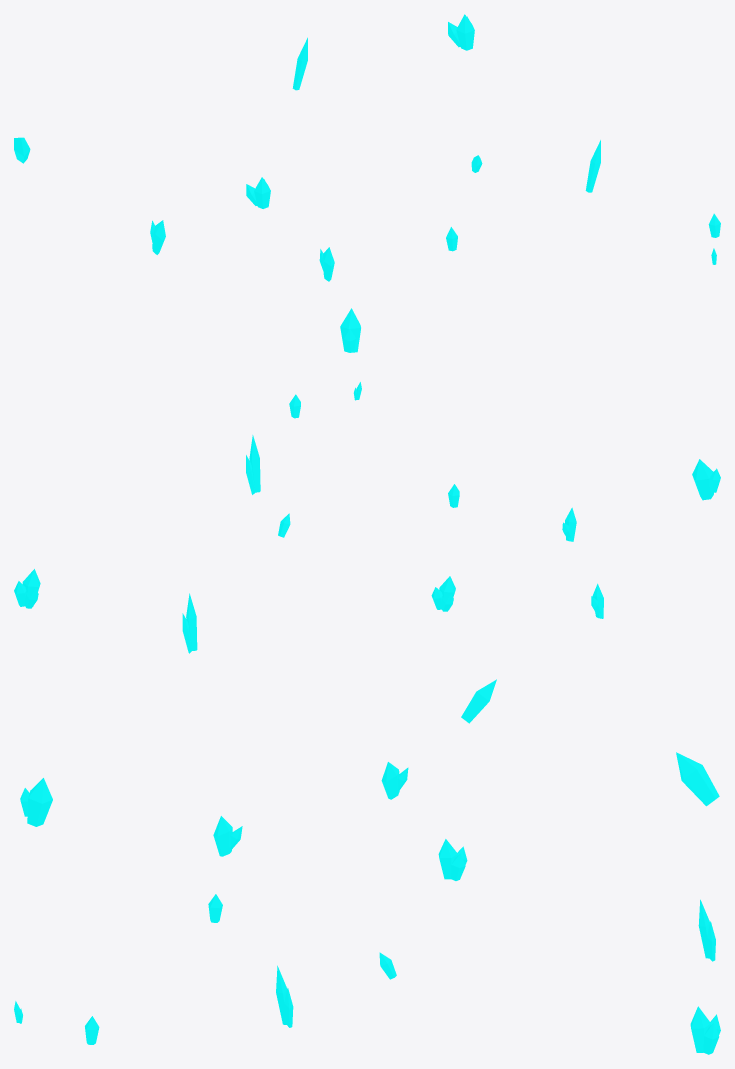
File: diamonds.glb
The picture shows the model from 3 angles, top to bottom: view 1: azimuth 30°, elevation 25°; view 2: azimuth 150°, elevation 25°; view 3: azimuth 270°, elevation 25°; orthographic projection. The views are drawn at different scales.
Visible parts, largest first — view 1: Cylinder.004, Cylinder.005; view 2: Cylinder.004, Cylinder.005, Cylinder.008, Cylinder.010, Cylinder.011, Cylinder.001; view 3: Cylinder.008, Cylinder.004, Cylinder.005, Cylinder.001, Cylinder.006, Cylinder.010, Cylinder.011, Cylinder.007.
Part boxes in pixels (box(x1,y1,x2,y2)): Cylinder.004: box(340, 308, 360, 352); Cylinder.005: box(448, 14, 474, 50); Cylinder.004: box(692, 459, 720, 500); Cylinder.005: box(14, 569, 40, 608); Cylinder.008: box(461, 679, 496, 723); Cylinder.010: box(182, 593, 197, 653); Cylinder.011: box(246, 435, 260, 494); Cylinder.001: box(431, 576, 455, 611); Cylinder.008: box(676, 752, 719, 806); Cylinder.004: box(20, 778, 52, 826); Cylinder.005: box(690, 1006, 720, 1054); Cylinder.001: box(438, 839, 467, 880); Cylinder.006: box(213, 816, 242, 856); Cylinder.010: box(698, 899, 715, 961); Cylinder.011: box(276, 965, 293, 1027); Cylinder.007: box(381, 762, 408, 799).
Bounding box in the file's own units: 1.66 × 0.2032 × 1.83.
